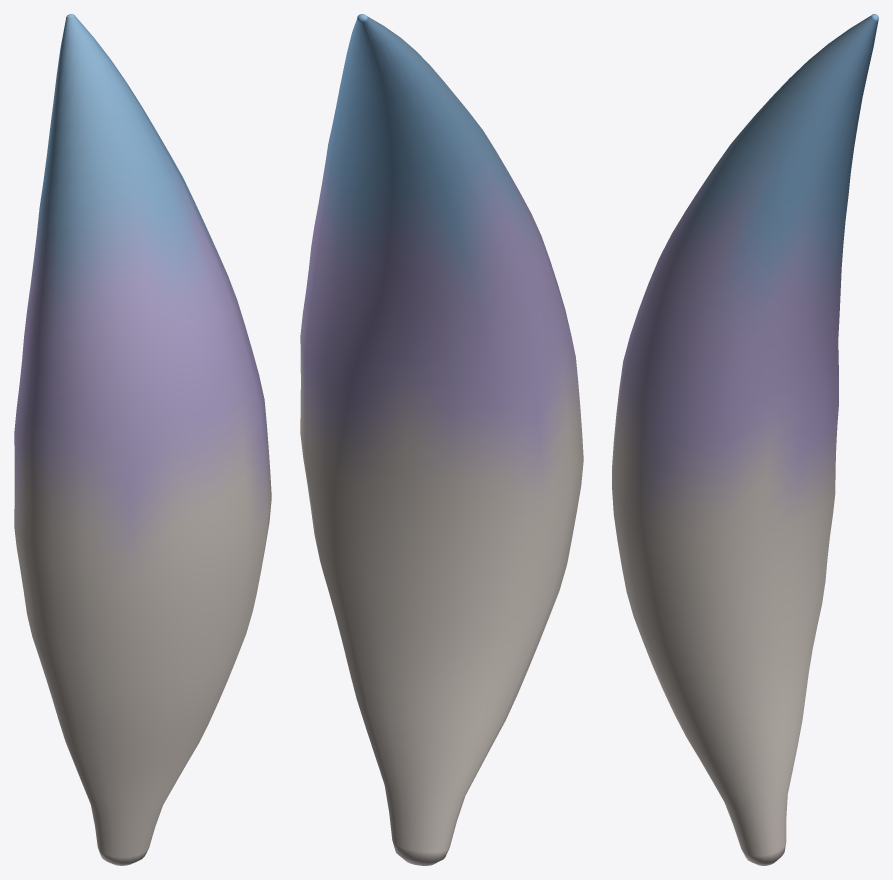
File: tamamo-tail.glb
3 renders of one model, left to right at view 1: azimuth 30°, elevation 25°; view 2: azimuth 150°, elevation 25°; view 3: azimuth 270°, elevation 25°, orthographic. The views are drawn at different scales.
Visible parts, largest first — view 1: body; view 2: body; view 3: body.
Boxes of the visible parts, x1,y1,x2,y2 form: body: (14,14,271,865); body: (300,14,583,865); body: (612,14,878,865).
Bounding box in the file's own units: 0.2555 × 0.8425 × 0.2405.
